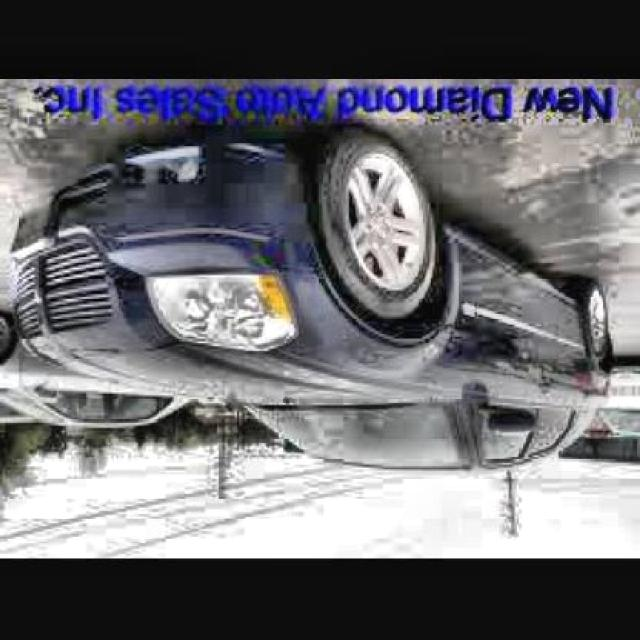black: (14, 129, 619, 473)
